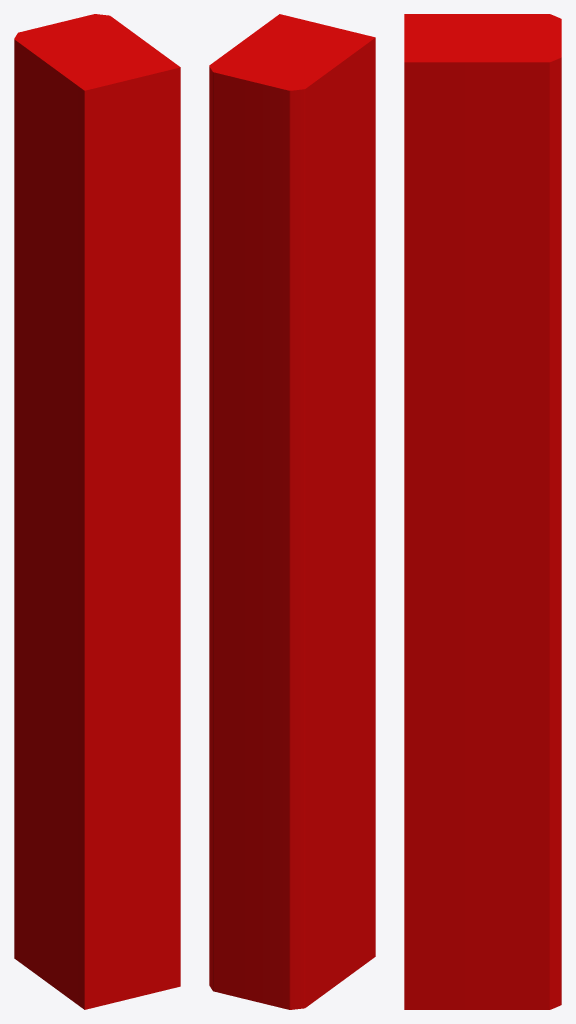
Rendered from Wall_14.fbx.
3 renders of one model, left to right at view 1: azimuth 30°, elevation 25°; view 2: azimuth 150°, elevation 25°; view 3: azimuth 270°, elevation 25°, orthographic. The views are drawn at different scales.
Visible parts, largest first — view 1: L14:pCube179; view 2: L14:pCube179; view 3: L14:pCube179.
Part boxes in pixels (x1,y1,x2,y2): L14:pCube179: [14, 14, 180, 1009]; L14:pCube179: [209, 14, 375, 1009]; L14:pCube179: [404, 14, 561, 1009].
Size of the model in its own units: 83.2 by 760 by 114.
